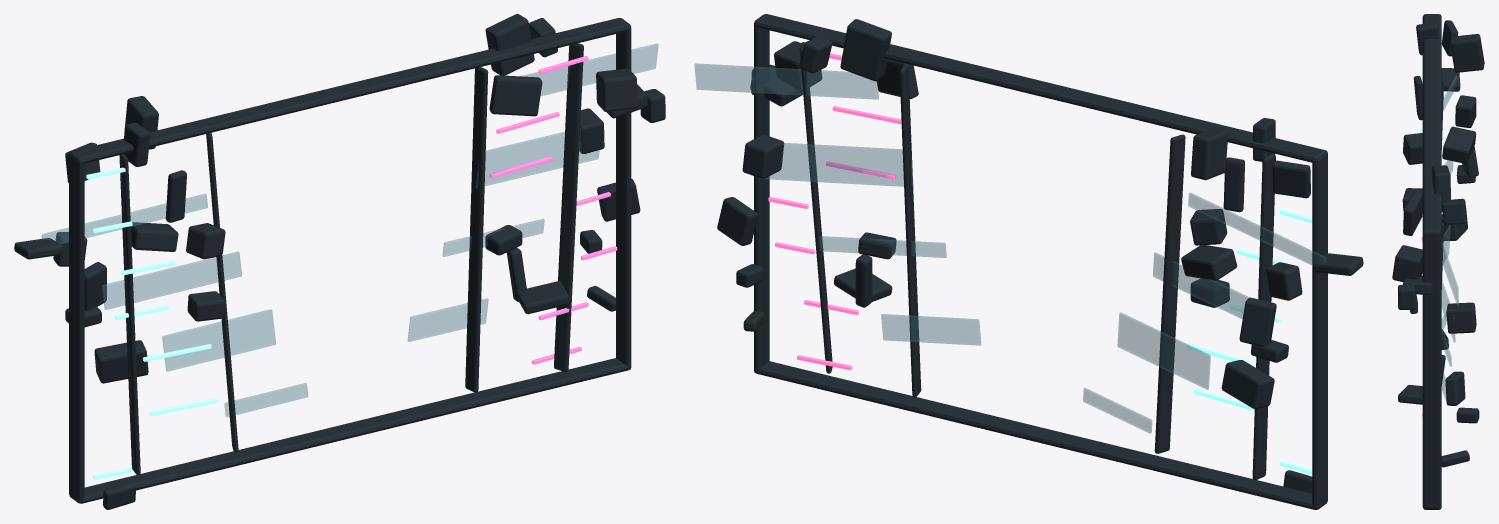
Rendered from lusion-corridor-module-v02.glb.
3 renders of one model, left to right at view 1: azimuth 30°, elevation 25°; view 2: azimuth 150°, elevation 25°; view 3: azimuth 270°, elevation 25°, orthographic. The views are drawn at different scales.
Visible parts, largest first — view 1: Corridor_Frame_Top, Corridor_Frame_Bottom, Corridor_Frame_Left, Corridor_Brace_03, Corridor_Frame_Right, Corridor_Brace_02, Corridor_Glass_02, Corridor_Glass_04, Corridor_Glass_05, Corridor_Brace_01, Corridor_Glass_07, Corridor_Reflector_02 (+21 smaller); view 2: Corridor_Frame_Bottom, Corridor_Frame_Top, Corridor_Frame_Left, Corridor_Brace_00, Corridor_Glass_05, Corridor_Glass_07, Corridor_Frame_Right, Corridor_Glass_02, Corridor_Brace_02, Corridor_Brace_01, Corridor_Glass_01, Corridor_Brace_03 (+24 smaller); view 3: Corridor_Frame_Right, Corridor_Frame_Top, Corridor_Reflector_09, Corridor_Reflector_07, Corridor_Reflector_13, Corridor_Reflector_21, Corridor_Reflector_02, Corridor_Reflector_22, Corridor_Reflector_24, Corridor_Reflector_04, Corridor_Reflector_17, Corridor_Reflector_14 (+20 smaller).
Part boxes in pixels (x1,y1,x2,y2): Corridor_Frame_Top: (70, 18, 630, 163); Corridor_Frame_Bottom: (80, 358, 630, 503); Corridor_Frame_Left: (69, 153, 84, 503); Corridor_Brace_03: (554, 43, 583, 371); Corridor_Frame_Right: (616, 25, 631, 368); Corridor_Brace_02: (465, 67, 488, 392); Corridor_Glass_02: (162, 309, 276, 371); Corridor_Glass_04: (102, 251, 241, 309); Corridor_Glass_05: (475, 128, 599, 187); Corridor_Brace_01: (119, 154, 140, 474); Corridor_Glass_07: (521, 43, 658, 95); Corridor_Reflector_02: (489, 75, 542, 116); Corridor_Frame_Bottom: (755, 361, 1316, 509); Corridor_Frame_Top: (755, 14, 1326, 162); Corridor_Frame_Left: (1312, 151, 1327, 509); Corridor_Brace_00: (1154, 134, 1185, 453); Corridor_Glass_05: (759, 142, 913, 187); Corridor_Glass_07: (694, 63, 878, 99); Corridor_Frame_Right: (754, 22, 769, 372); Corridor_Glass_02: (1117, 312, 1210, 389); Corridor_Brace_02: (899, 64, 921, 397); Corridor_Brace_01: (1252, 154, 1275, 480); Corridor_Glass_01: (881, 314, 981, 345); Corridor_Brace_03: (799, 42, 832, 373); Corridor_Frame_Right: (1422, 231, 1441, 509); Corridor_Frame_Top: (1422, 14, 1441, 232); Corridor_Reflector_09: (1450, 34, 1484, 72); Corridor_Reflector_07: (1442, 126, 1476, 163); Corridor_Reflector_13: (1392, 245, 1422, 282); Corridor_Reflector_21: (1446, 302, 1476, 333); Corridor_Reflector_02: (1403, 189, 1422, 235); Corridor_Reflector_22: (1455, 95, 1476, 127); Corridor_Reflector_24: (1442, 198, 1466, 225); Corridor_Reflector_04: (1431, 165, 1450, 212); Corridor_Reflector_17: (1445, 371, 1465, 405); Corridor_Reflector_14: (1403, 133, 1422, 164).
Size of the model in its own units: 10.13 by 5.62 by 1.55.
